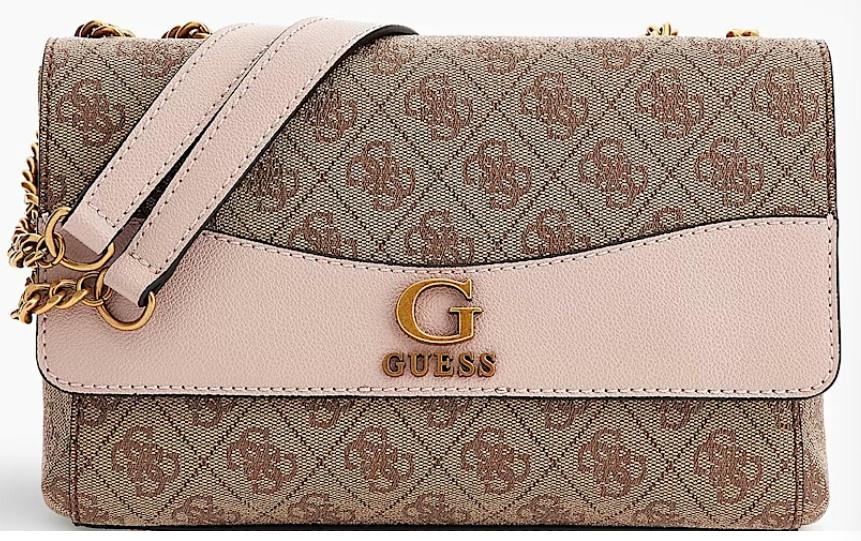GUESS: (382, 351, 497, 376)
